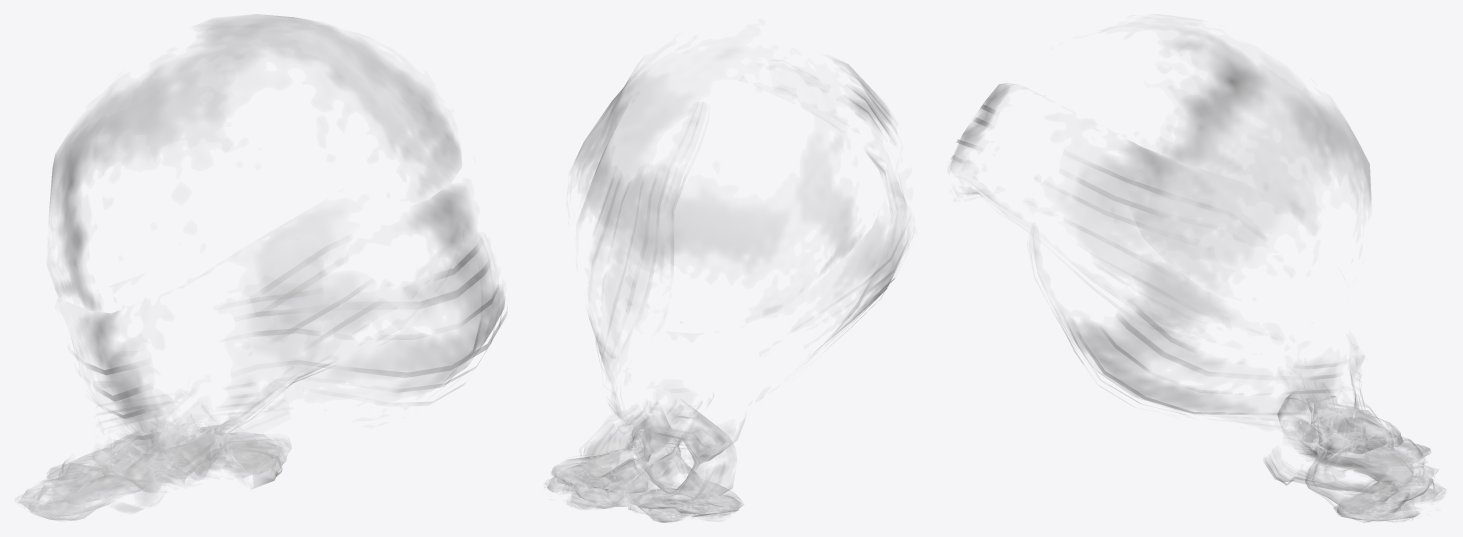
The model's file is daz_hair_double_braid.glb.
The picture shows the model from 3 angles, left to right: view 1: azimuth 30°, elevation 25°; view 2: azimuth 150°, elevation 25°; view 3: azimuth 270°, elevation 25°; orthographic projection. The views are drawn at different scales.
Parts seen in each view (by area): view 1: daz_hair_double_braid; view 2: daz_hair_double_braid; view 3: daz_hair_double_braid.
Boxes of the visible parts, <box> form: daz_hair_double_braid: <box>17,14,506,520</box>; daz_hair_double_braid: <box>545,60,907,522</box>; daz_hair_double_braid: <box>950,29,1445,522</box>.
Bounding box in the file's own units: 0.1823 × 0.2497 × 0.2534.
1 material, 1 textured.
